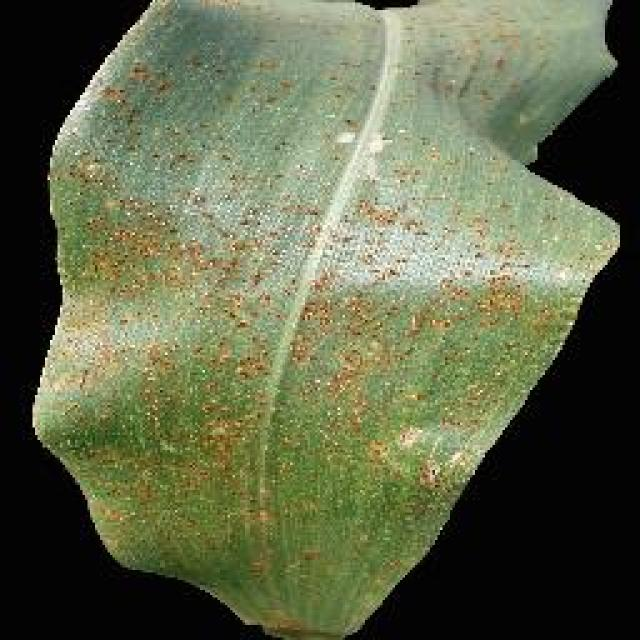Corn___Common_rust: (12, 0, 630, 640)
